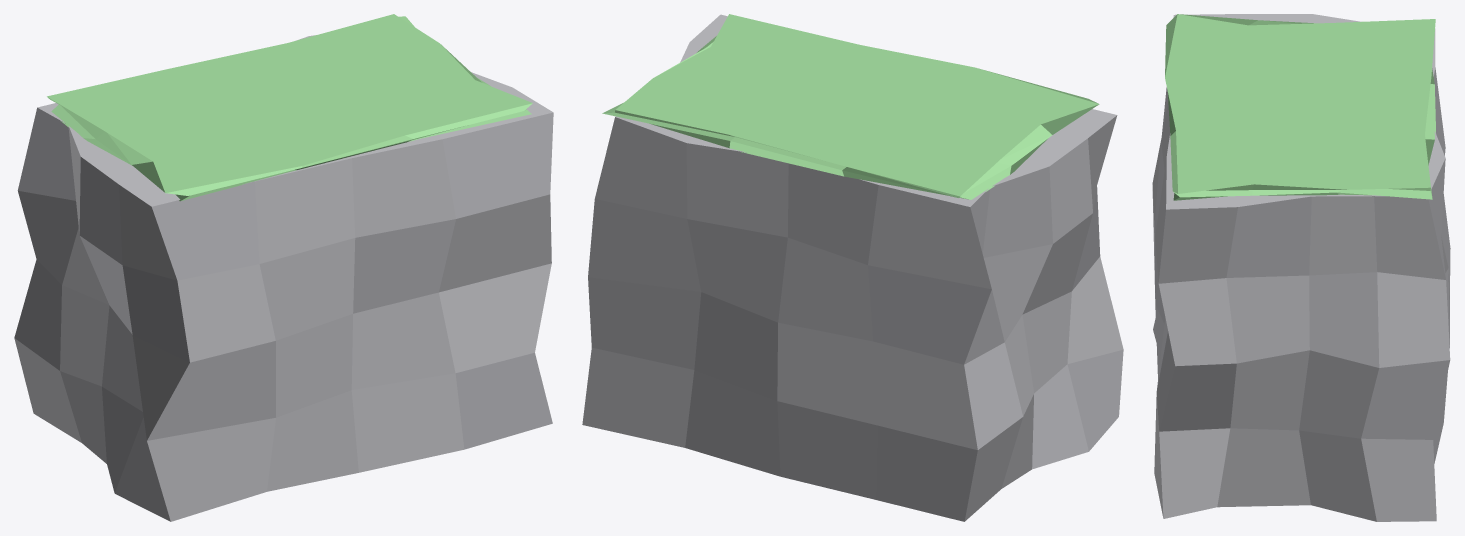
File: ASTX_GEO_CLIFFMASS.glb
3 views of the same model, side by side, from view 1: azimuth 30°, elevation 25°; view 2: azimuth 150°, elevation 25°; view 3: azimuth 270°, elevation 25° (orthographic).
Parts seen in each view (by area): view 1: ASTX_GEO_cliffMass, ASTX_GEO_cliffMass_cap; view 2: ASTX_GEO_cliffMass, ASTX_GEO_cliffMass_cap; view 3: ASTX_GEO_cliffMass, ASTX_GEO_cliffMass_cap.
Boxes of the visible parts, bbox=[...] form: ASTX_GEO_cliffMass: bbox=[14, 35, 553, 521]; ASTX_GEO_cliffMass_cap: bbox=[47, 14, 532, 201]; ASTX_GEO_cliffMass: bbox=[582, 14, 1123, 521]; ASTX_GEO_cliffMass_cap: bbox=[602, 14, 1099, 199]; ASTX_GEO_cliffMass: bbox=[1152, 14, 1450, 521]; ASTX_GEO_cliffMass_cap: bbox=[1165, 14, 1435, 200].
Size of the model in its own units: 15.4 by 11.41 by 9.67.
